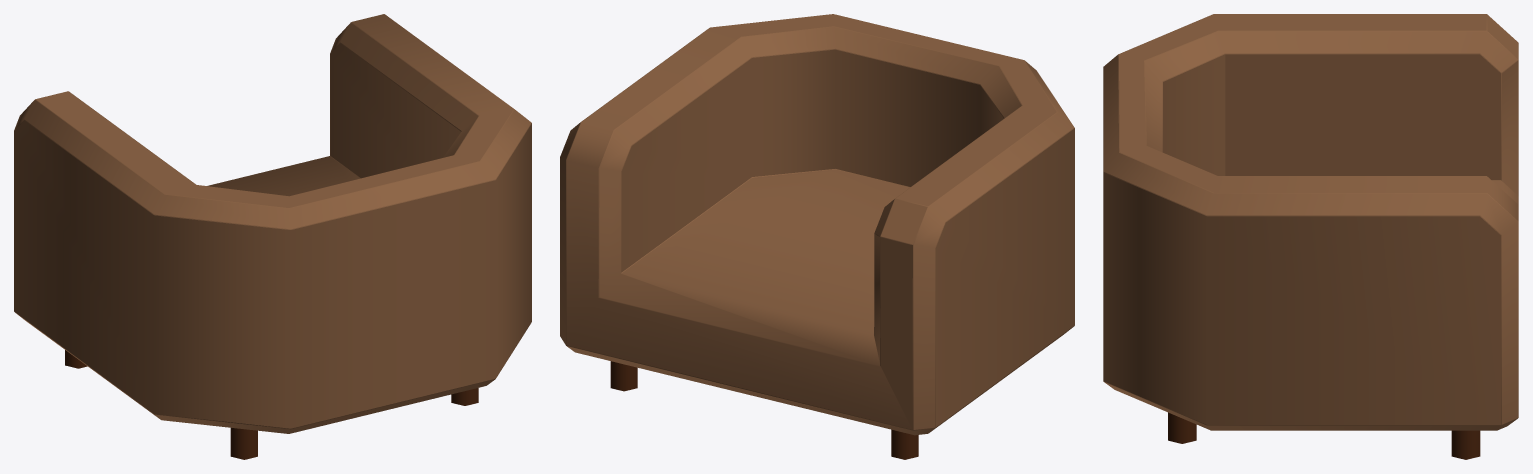
Rendered from armchair.fbx.
3 views of the same model, side by side, from view 1: azimuth 30°, elevation 25°; view 2: azimuth 150°, elevation 25°; view 3: azimuth 270°, elevation 25° (orthographic). The views are drawn at different scales.
Visible parts, largest first — view 1: Symmetrie; view 2: Symmetrie; view 3: Symmetrie.
Boxes of the visible parts, x1,y1,x2,y2 form: Symmetrie: [14, 14, 531, 459]; Symmetrie: [560, 14, 1074, 459]; Symmetrie: [1103, 14, 1518, 459].
Size of the model in its own units: 139 by 92.43 by 126.
1 material, 1 textured.
